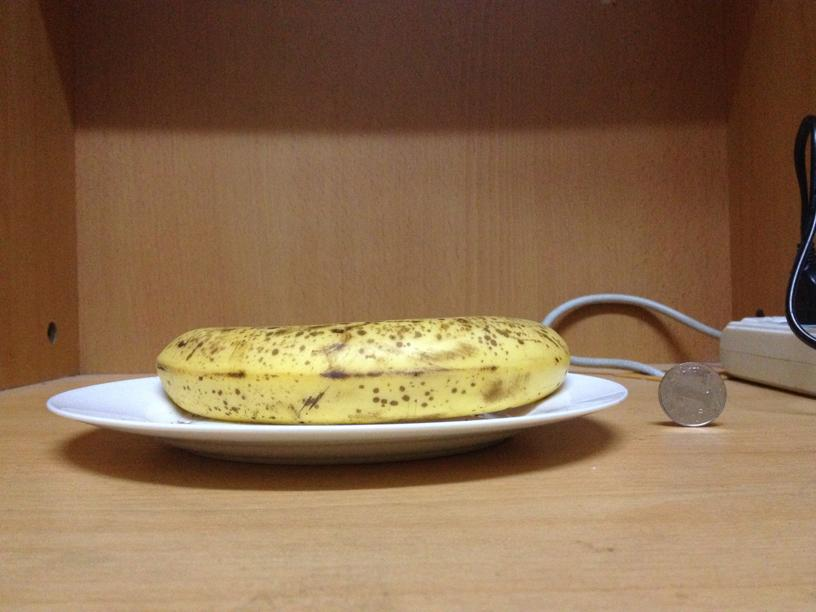banana: (154, 320, 570, 423)
coin: (659, 362, 728, 427)
